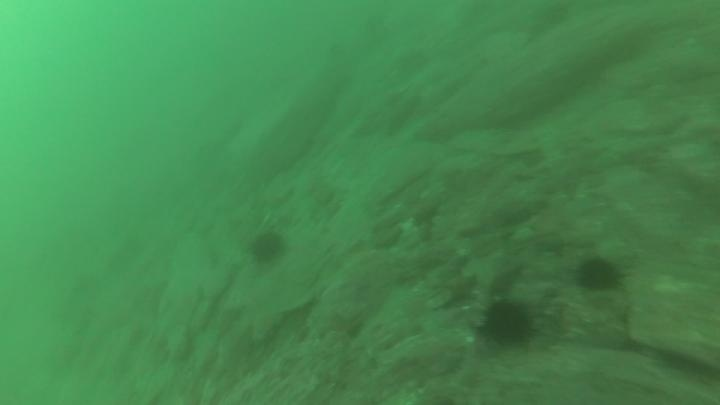echinus: (479, 296, 537, 347), (574, 252, 625, 293), (248, 225, 289, 264)
starfish: (435, 267, 480, 307)
